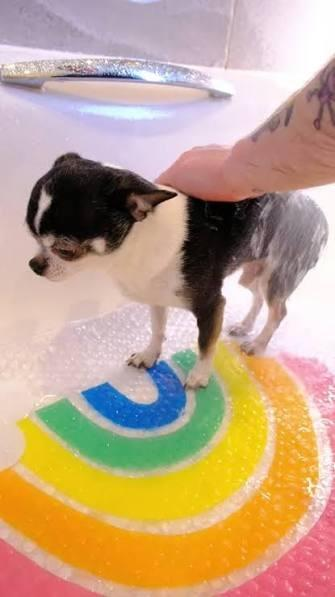adult_dog: (26, 152, 329, 390)
